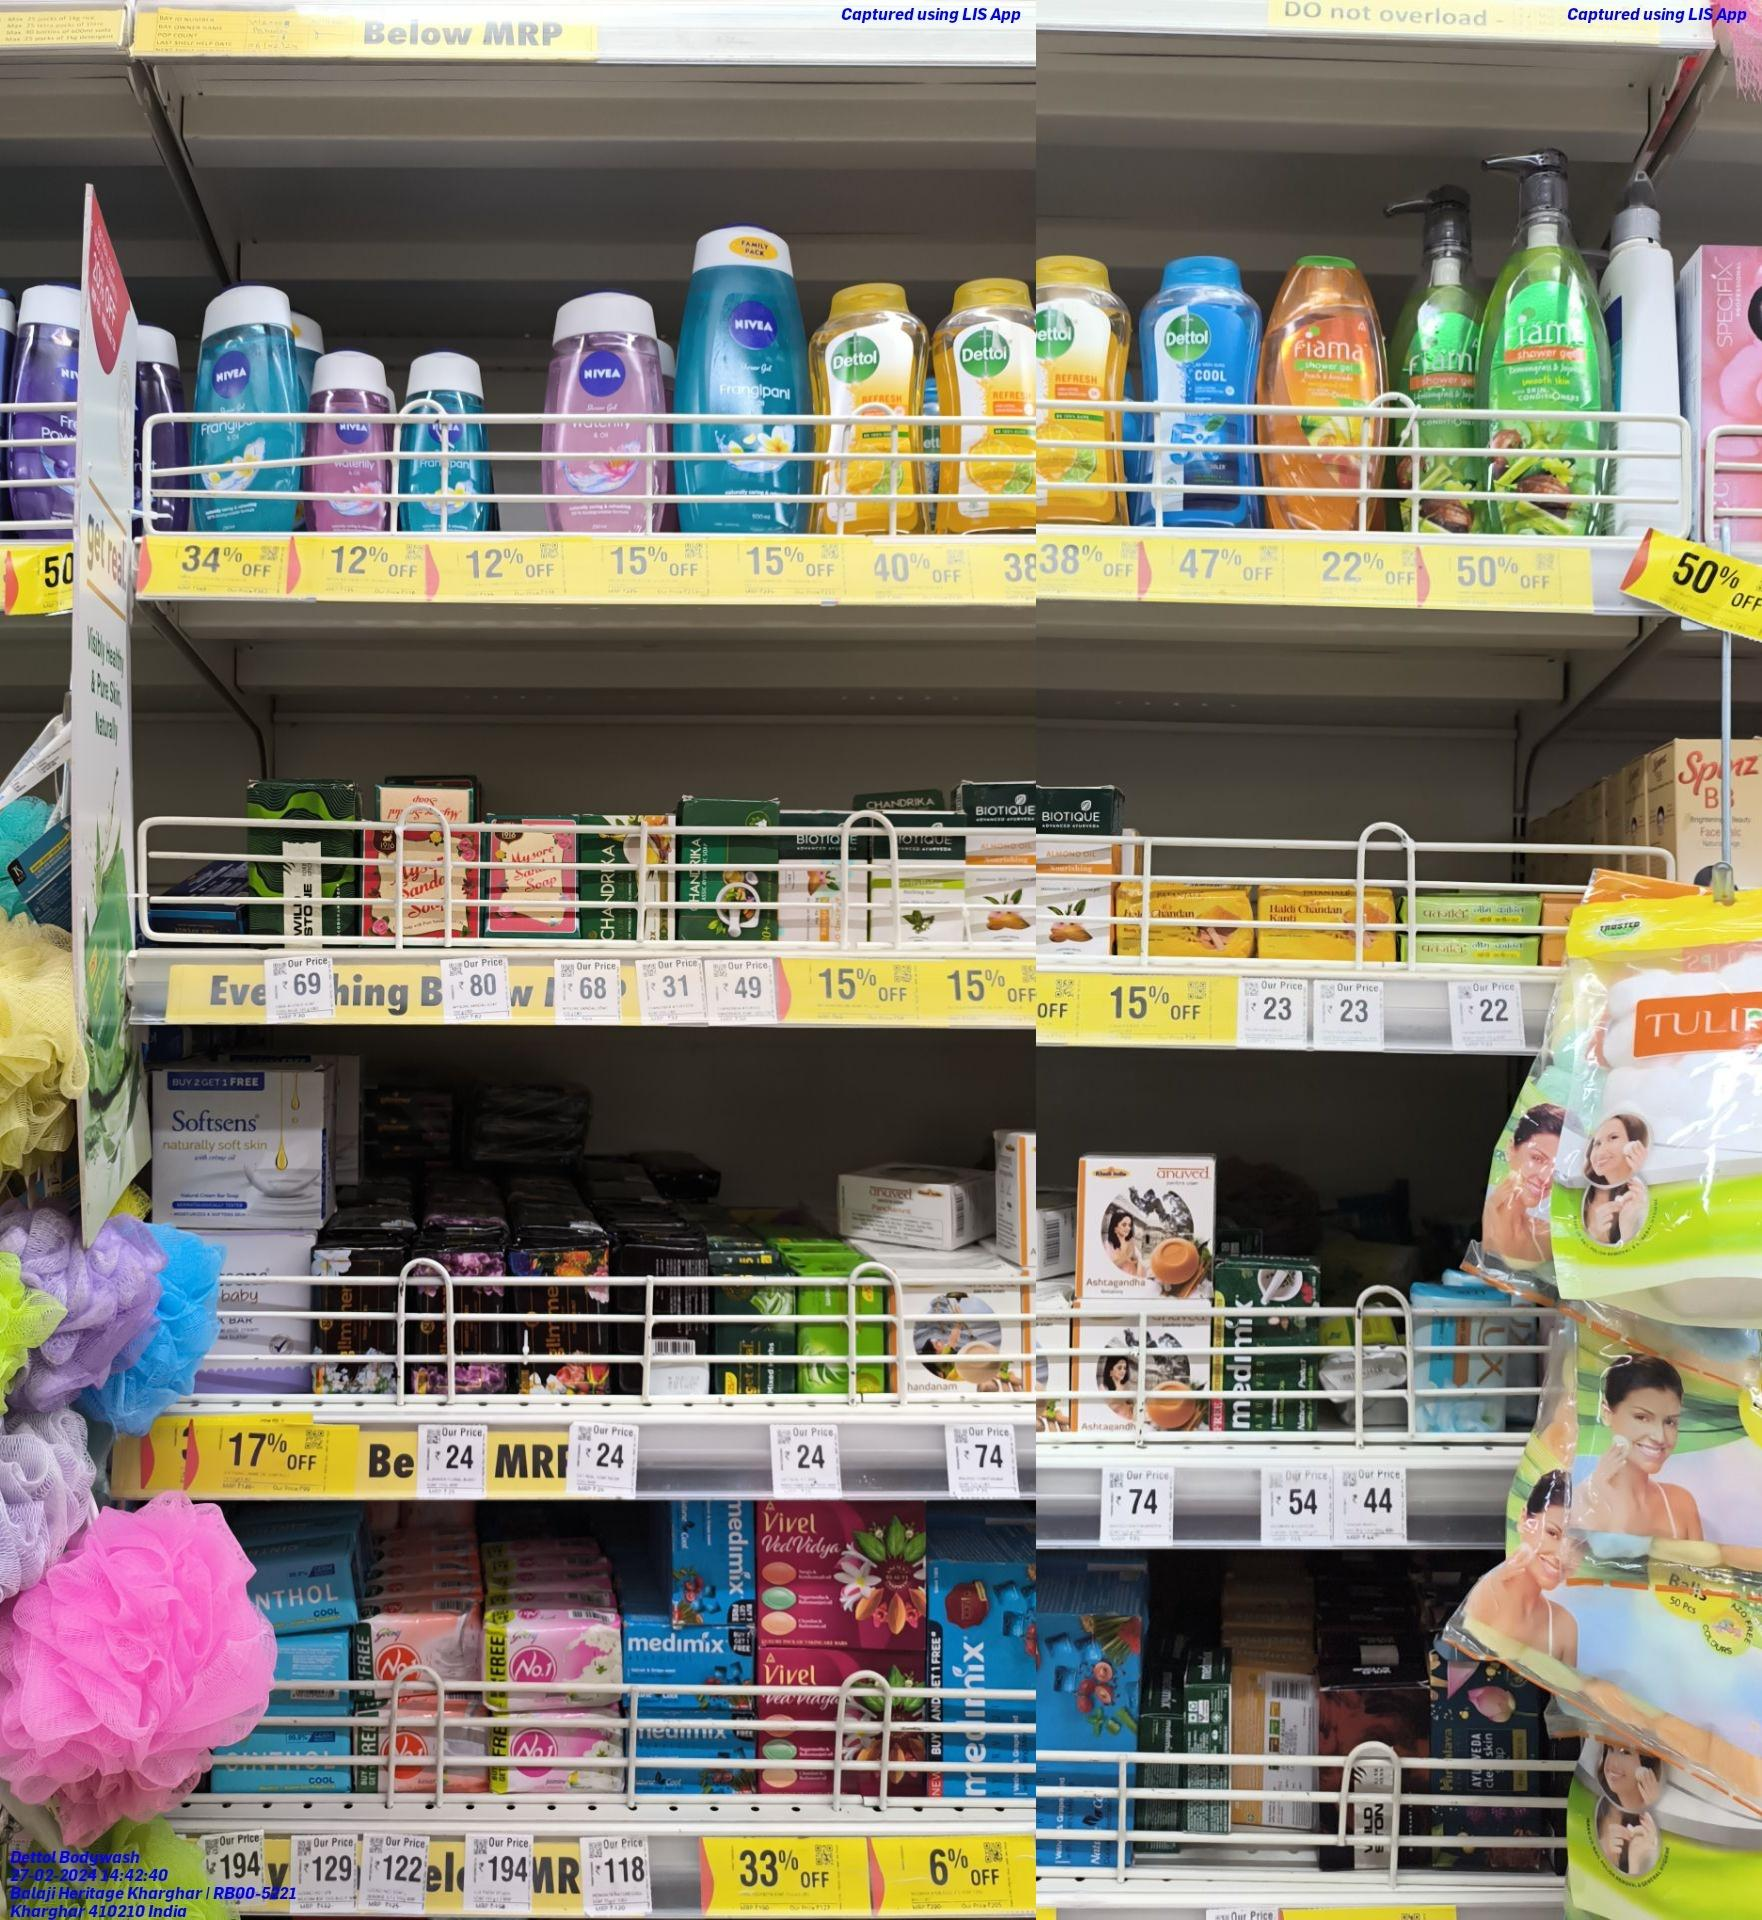Dettol_Bodywash_Cool: (1142, 253, 1262, 530)
Dettol_Bodywash_Refresh: (819, 274, 928, 530), (1038, 249, 1127, 523), (945, 268, 1035, 535)
Fiama_Shower_Gel_Peach_and_Avocado_250ML: (1277, 246, 1383, 539)
Nivea_Shower_Gel_Frangipani_and_Oil_250ML: (690, 212, 812, 545), (194, 276, 294, 540), (398, 348, 493, 539)
Nivea_Shower_Gel_Waterlily_and_Oil_250ML: (547, 284, 665, 534), (309, 346, 390, 534)
